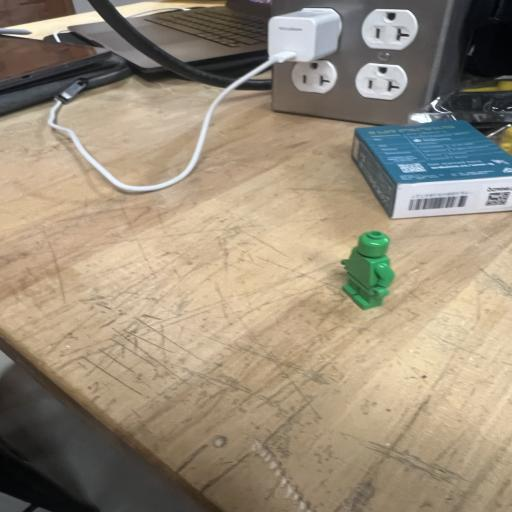green-lego-minifigure-detector: (341, 231, 394, 310)
